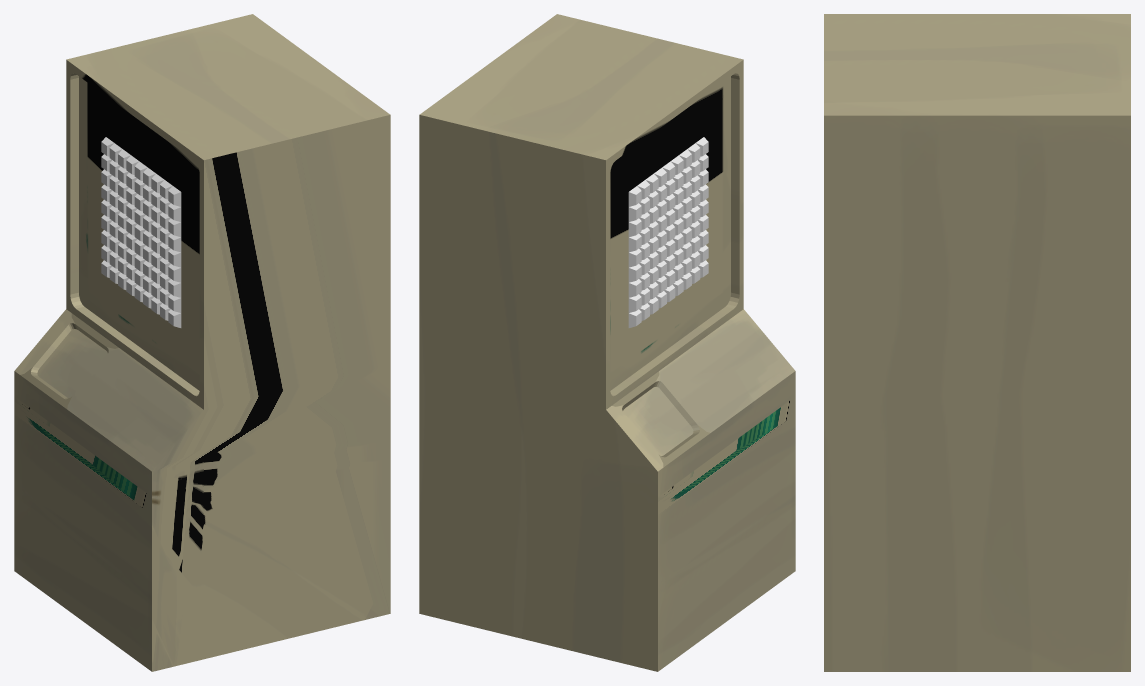
File: Computer-4.glb
3 views of the same model, side by side, from view 1: azimuth 30°, elevation 25°; view 2: azimuth 150°, elevation 25°; view 3: azimuth 270°, elevation 25° (orthographic). The views are drawn at different scales.
Parts seen in each view (by area): view 1: Computer-1-col.003, LEdPanel-10x10; view 2: Computer-1-col.003, LEdPanel-10x10; view 3: Computer-1-col.003.
Part boxes in pixels (x1,y1,x2,y2): Computer-1-col.003: (14, 14, 390, 671); LEdPanel-10x10: (101, 137, 181, 327); Computer-1-col.003: (419, 14, 795, 671); LEdPanel-10x10: (628, 137, 708, 327); Computer-1-col.003: (824, 14, 1130, 671).
Bounding box in the file's own units: 0.5 × 1 × 0.5.
Materials: 1 (1 with a texture image).
